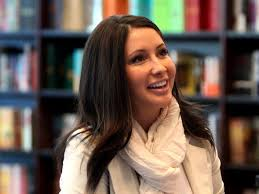middle_eastern_Female: (118, 20, 179, 108)
